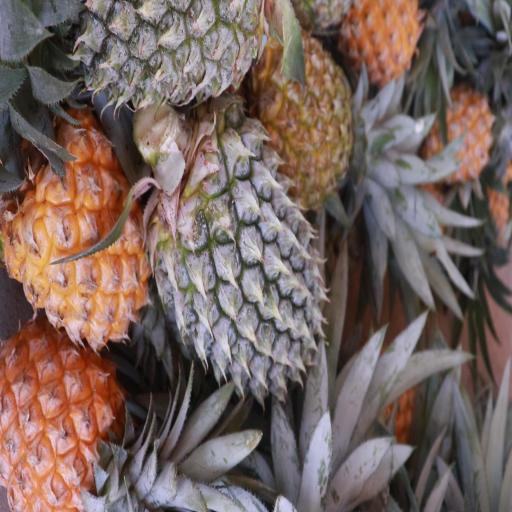------------------------------: (259, 32, 352, 198)
Pineapple - v8 v1: (5, 129, 148, 346), (0, 347, 130, 511), (424, 86, 495, 182), (345, 0, 423, 82)
